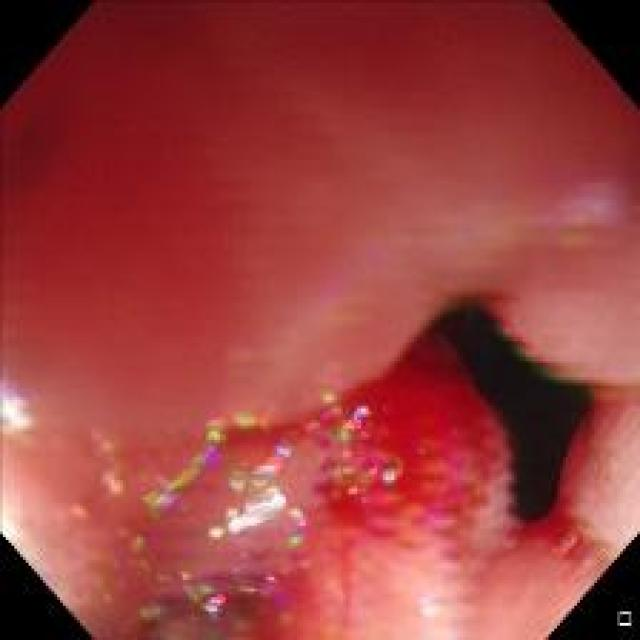color misalignment: (1, 1, 638, 635), (74, 382, 408, 628), (110, 542, 322, 619), (309, 384, 402, 510), (224, 436, 318, 558), (144, 396, 225, 529), (420, 418, 479, 544), (486, 311, 578, 382), (481, 415, 522, 551), (90, 412, 129, 515)
contrast: (429, 298, 595, 516)
saturation: (0, 514, 34, 558)
specularity: (4, 362, 35, 444)
